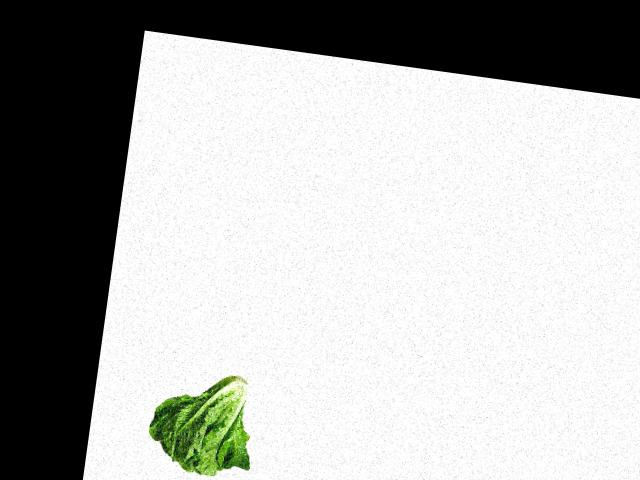lettuce: (142, 359, 260, 480)
